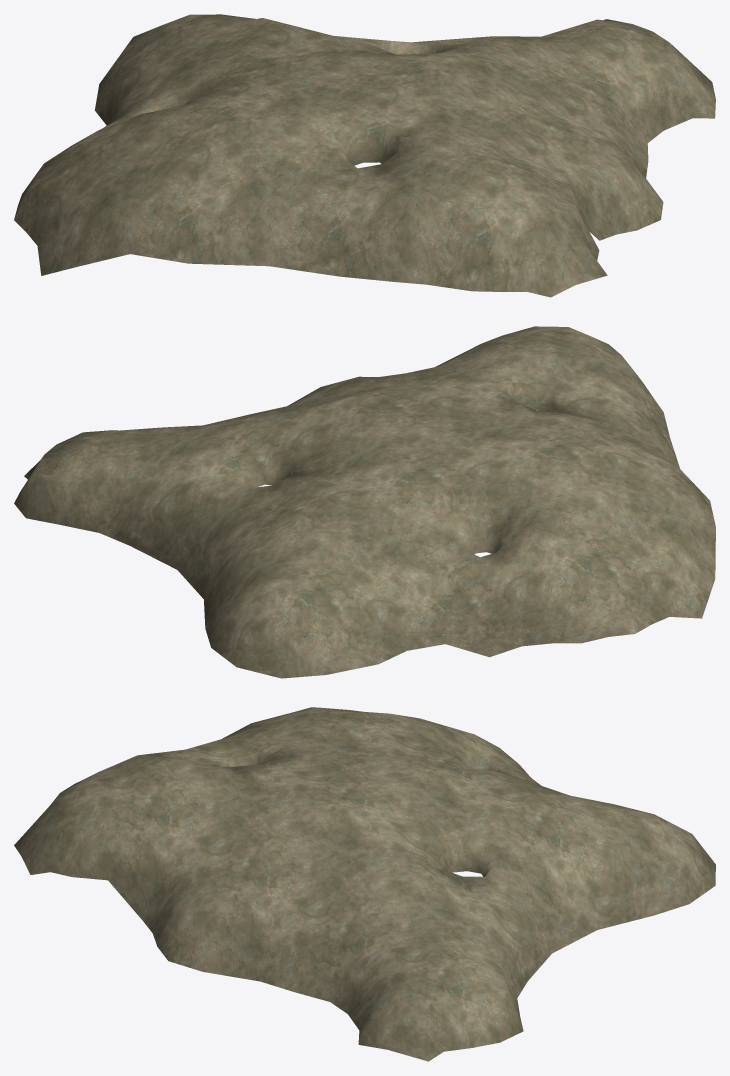
File: EKH_CAVERNS_PS_CA_SM_CAVE_ROOF74758.fbx
The picture shows the model from 3 angles, top to bottom: view 1: azimuth 30°, elevation 25°; view 2: azimuth 150°, elevation 25°; view 3: azimuth 270°, elevation 25°; orthographic projection. The views are drawn at different scales.
Parts seen in each view (by area): view 1: EKH_CAVERNS_PS_CA_SM_CAVE_ROOF74758; view 2: EKH_CAVERNS_PS_CA_SM_CAVE_ROOF74758; view 3: EKH_CAVERNS_PS_CA_SM_CAVE_ROOF74758.
Part boxes in pixels (<box>): EKH_CAVERNS_PS_CA_SM_CAVE_ROOF74758: <box>14,14,715,297</box>; EKH_CAVERNS_PS_CA_SM_CAVE_ROOF74758: <box>14,326,715,678</box>; EKH_CAVERNS_PS_CA_SM_CAVE_ROOF74758: <box>14,707,715,1061</box>.
Size of the model in its own units: 236018 by 44682 by 228839.
Materials: 1 (1 with a texture image).
